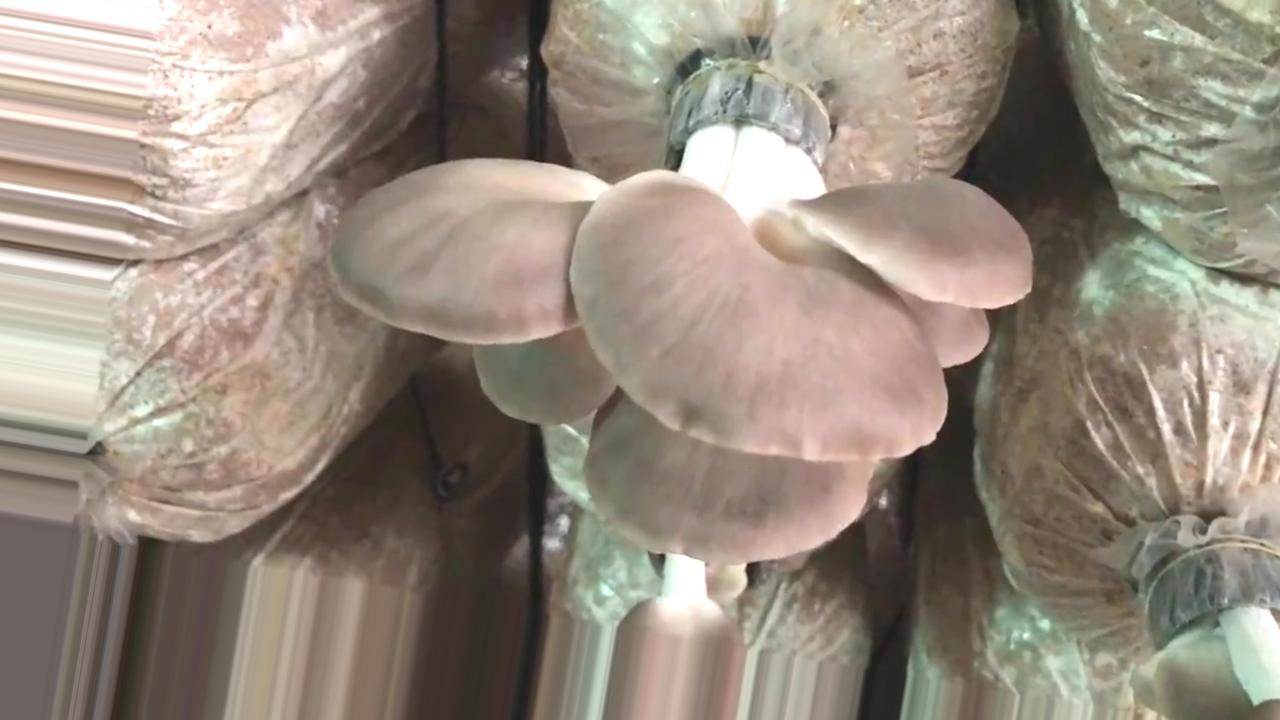nam: (345, 74, 1033, 561), (1134, 543, 1280, 720), (604, 555, 749, 720)
